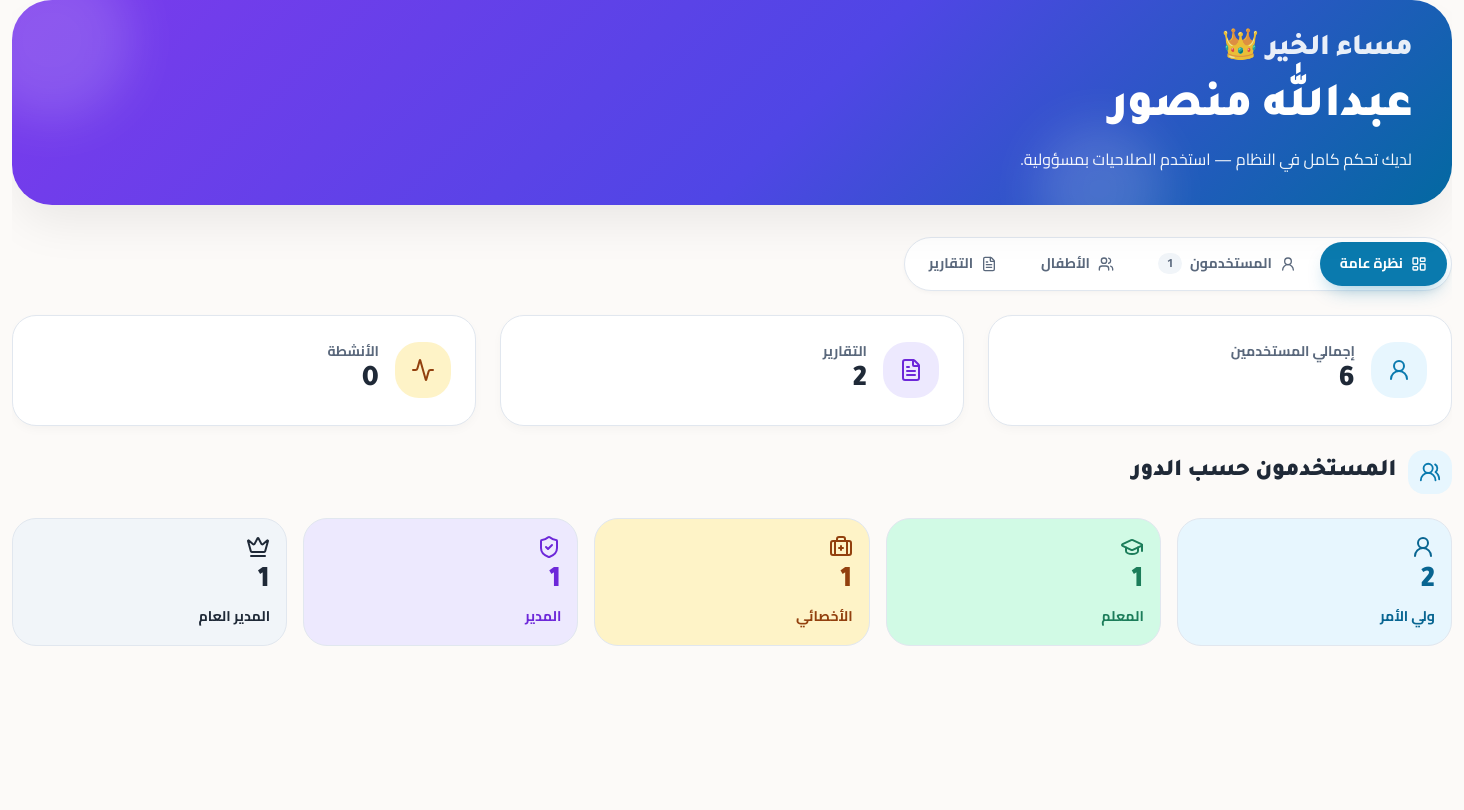
SuperAdminPanelPage › shows a deactivated account from isActive and re-activates it with PUT
Click the tab "المستخدمون 1" at (1227, 264), box top-left (1138, 242), bottom-right (1316, 286)
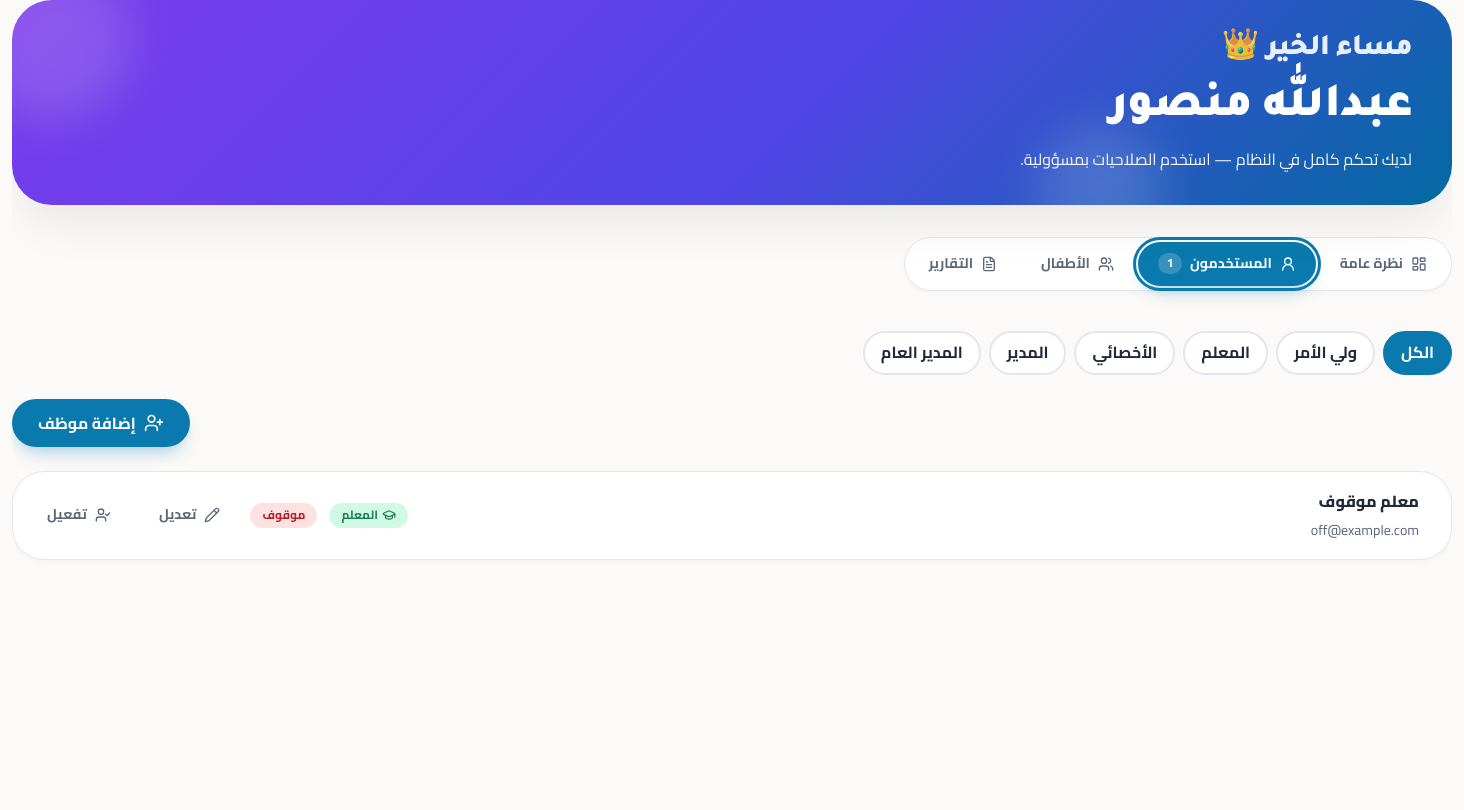
Check: the text "موقوف" is shown, box top-left (250, 503), bottom-right (318, 528)
Click the button with aria-label "تفعيل حساب معلم موقوف" at (79, 515), box top-left (29, 495), bottom-right (129, 535)
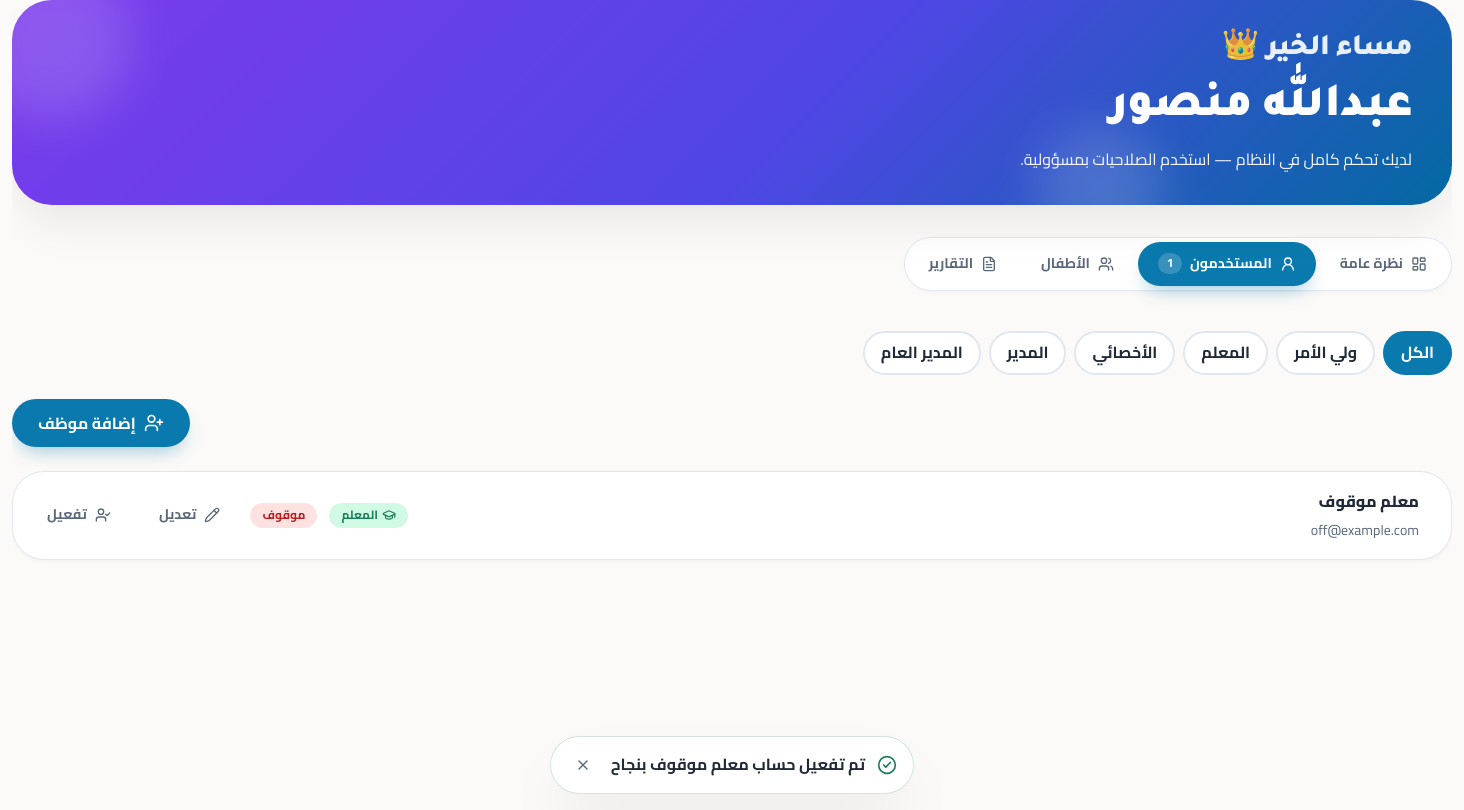
Check: the text "تم تفعيل حساب معلم موقوف بنجاح" is shown, box top-left (611, 751), bottom-right (865, 779)
